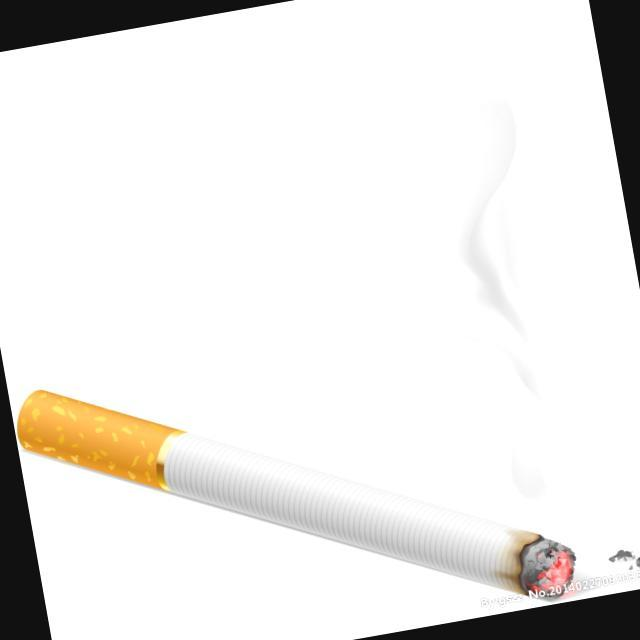cigarette: (6, 291, 589, 640)
